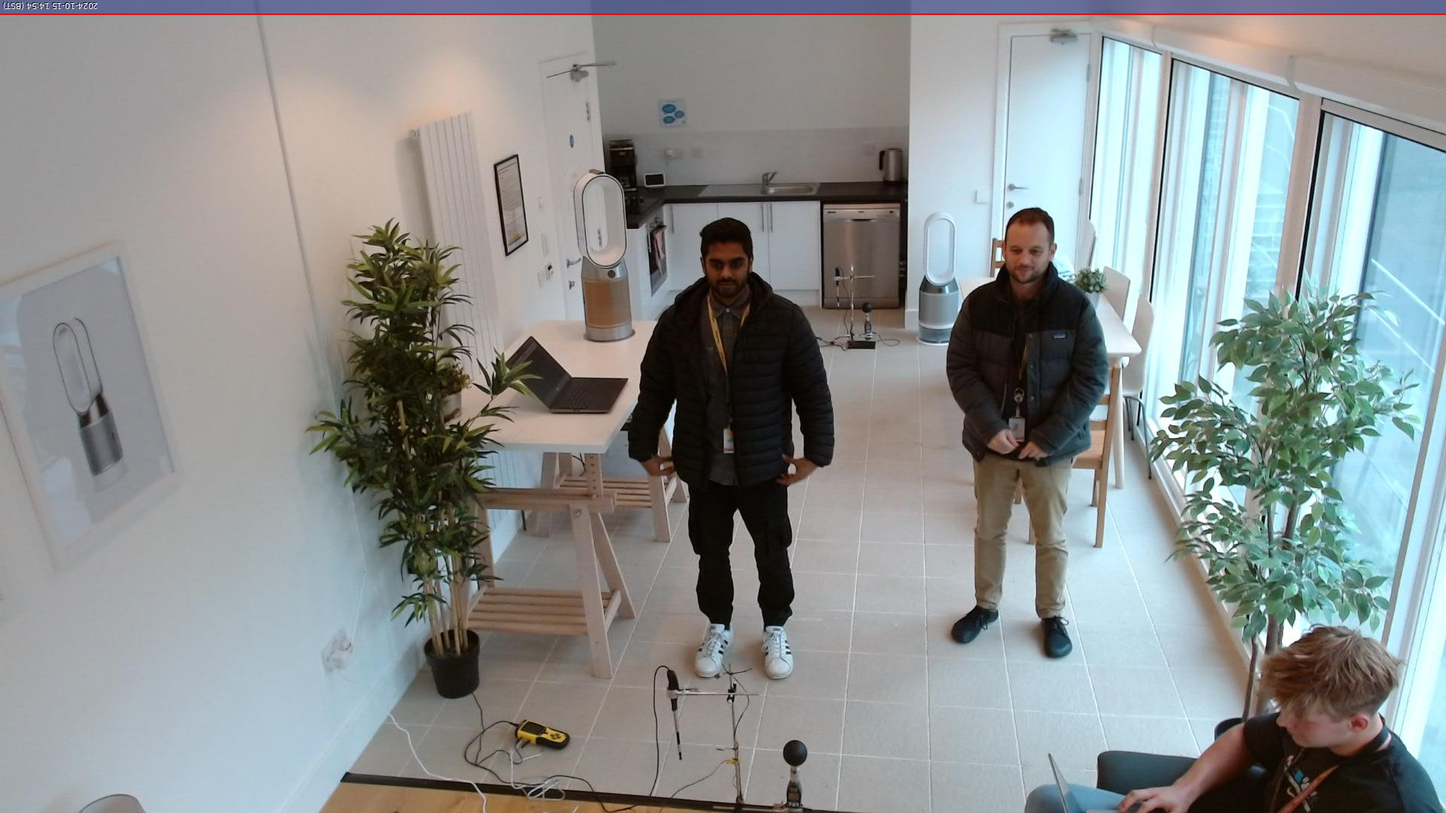coat: (627, 274, 836, 484), (945, 257, 1109, 467)
long sleeve shirt: (704, 285, 756, 480)
short sleeve shirt: (1237, 711, 1446, 813)
trousers: (972, 449, 1070, 623), (689, 476, 795, 635), (1023, 780, 1162, 813)
